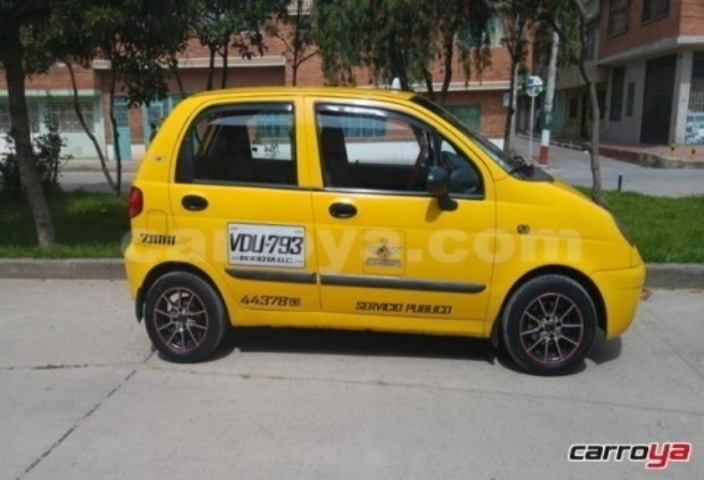taxi: (110, 76, 666, 384)
